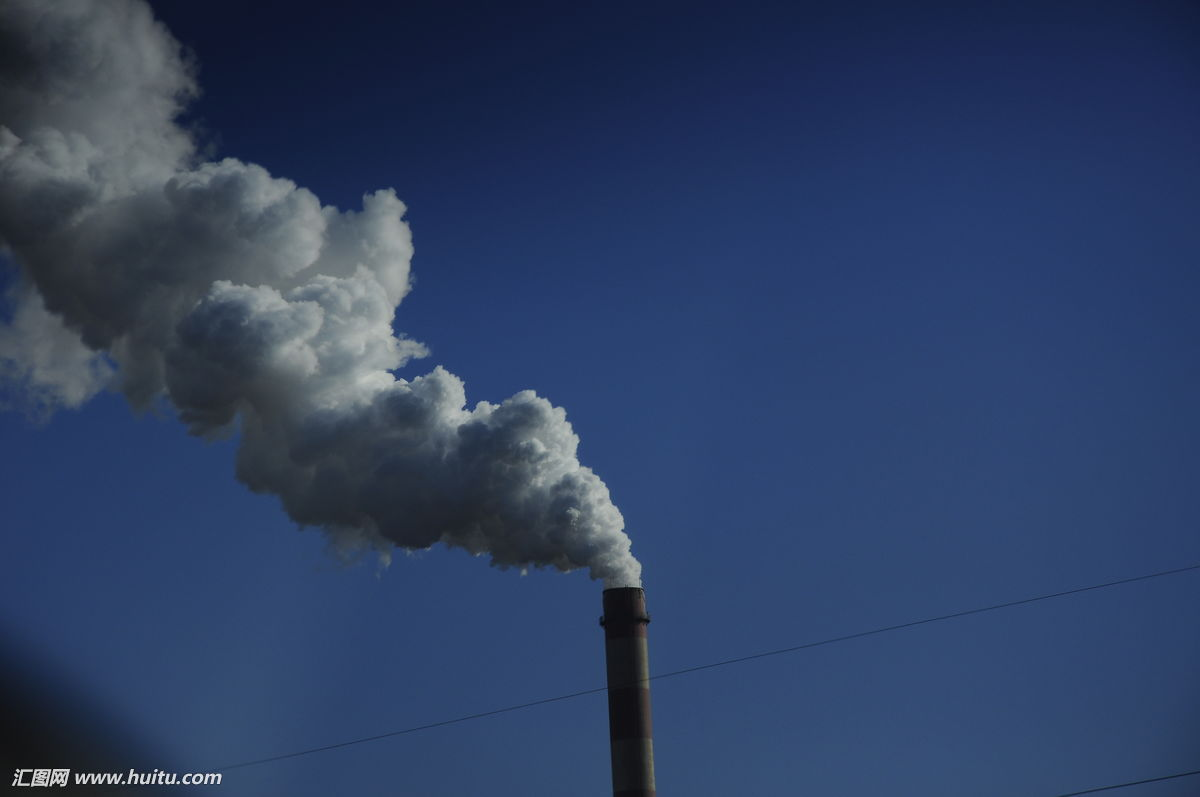dust: (159, 238, 669, 611)
